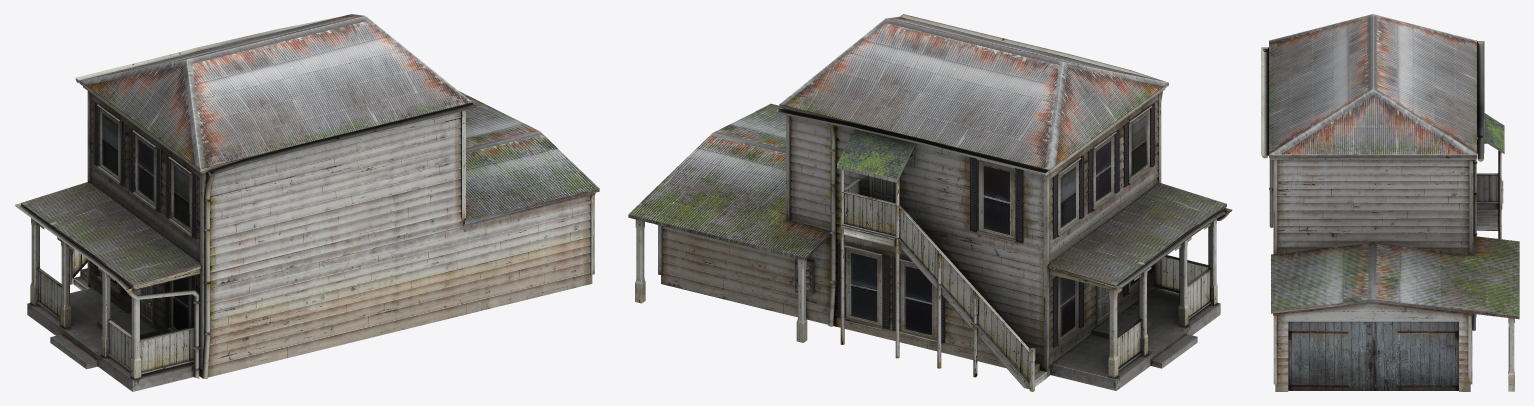
File: 105 Main.fbx
The picture shows the model from 3 angles, left to right: view 1: azimuth 30°, elevation 25°; view 2: azimuth 150°, elevation 25°; view 3: azimuth 270°, elevation 25°; orthographic projection. The views are drawn at different scales.
Visible parts, largest first — view 1: Exterior1, Trims5, Trims_Transparent, Glass; view 2: Exterior1, Trims5, Glass, Trims_Transparent; view 3: Exterior1, Trims5, Trims_Transparent.
Boxes of the visible parts, x1,y1,x2,y2 form: Exterior1: (79, 14, 599, 378); Trims5: (15, 16, 594, 391); Trims_Transparent: (37, 223, 194, 372); Glass: (102, 113, 189, 329); Exterior1: (628, 16, 1168, 377); Trims5: (635, 14, 1232, 391); Glass: (850, 115, 1146, 337); Trims_Transparent: (844, 182, 1210, 382); Exterior1: (1269, 14, 1519, 391); Trims5: (1261, 41, 1514, 391); Trims_Transparent: (1476, 175, 1498, 201).
Bounding box in the file's own units: 38.48 × 20.95 × 21.14.
